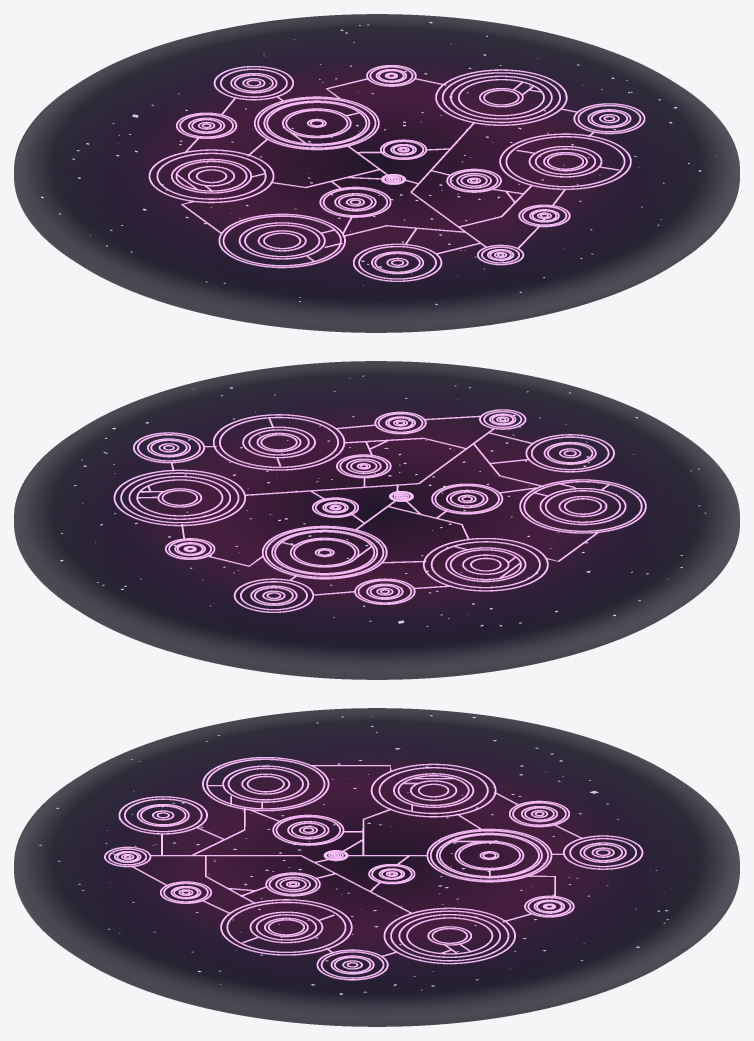
Rendered from pedestal.glb.
3 views of the same model, one above another, from view 1: azimuth 30°, elevation 25°; view 2: azimuth 150°, elevation 25°; view 3: azimuth 270°, elevation 25° (orthographic).
Visible parts, largest first — view 1: Beveled amethyst acrylic disc, Fine attack-circle engraving, Star flecks; view 2: Beveled amethyst acrylic disc, Fine attack-circle engraving, Star flecks; view 3: Beveled amethyst acrylic disc, Fine attack-circle engraving, Star flecks.
Part boxes in pixels (box(x1,y1,x2,y2)): Beveled amethyst acrylic disc: box(14, 14, 739, 332); Fine attack-circle engraving: box(148, 65, 645, 281); Star flecks: box(41, 21, 716, 304); Beveled amethyst acrylic disc: box(14, 361, 739, 679); Fine attack-circle engraving: box(113, 409, 646, 612); Star flecks: box(60, 375, 705, 626); Beveled amethyst acrylic disc: box(14, 708, 739, 1026); Fine attack-circle engraving: box(104, 757, 643, 980); Star flecks: box(39, 715, 671, 994).
Size of the model in its own units: 10.36 by 0.313 by 10.36.
